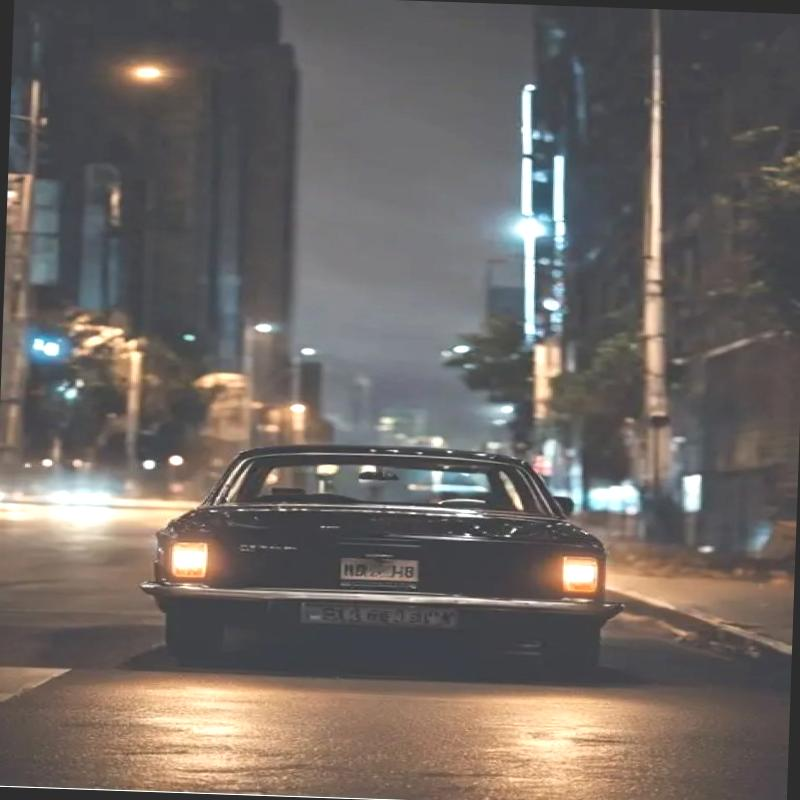license plate on a car: (302, 604, 458, 629), (340, 559, 418, 584)
